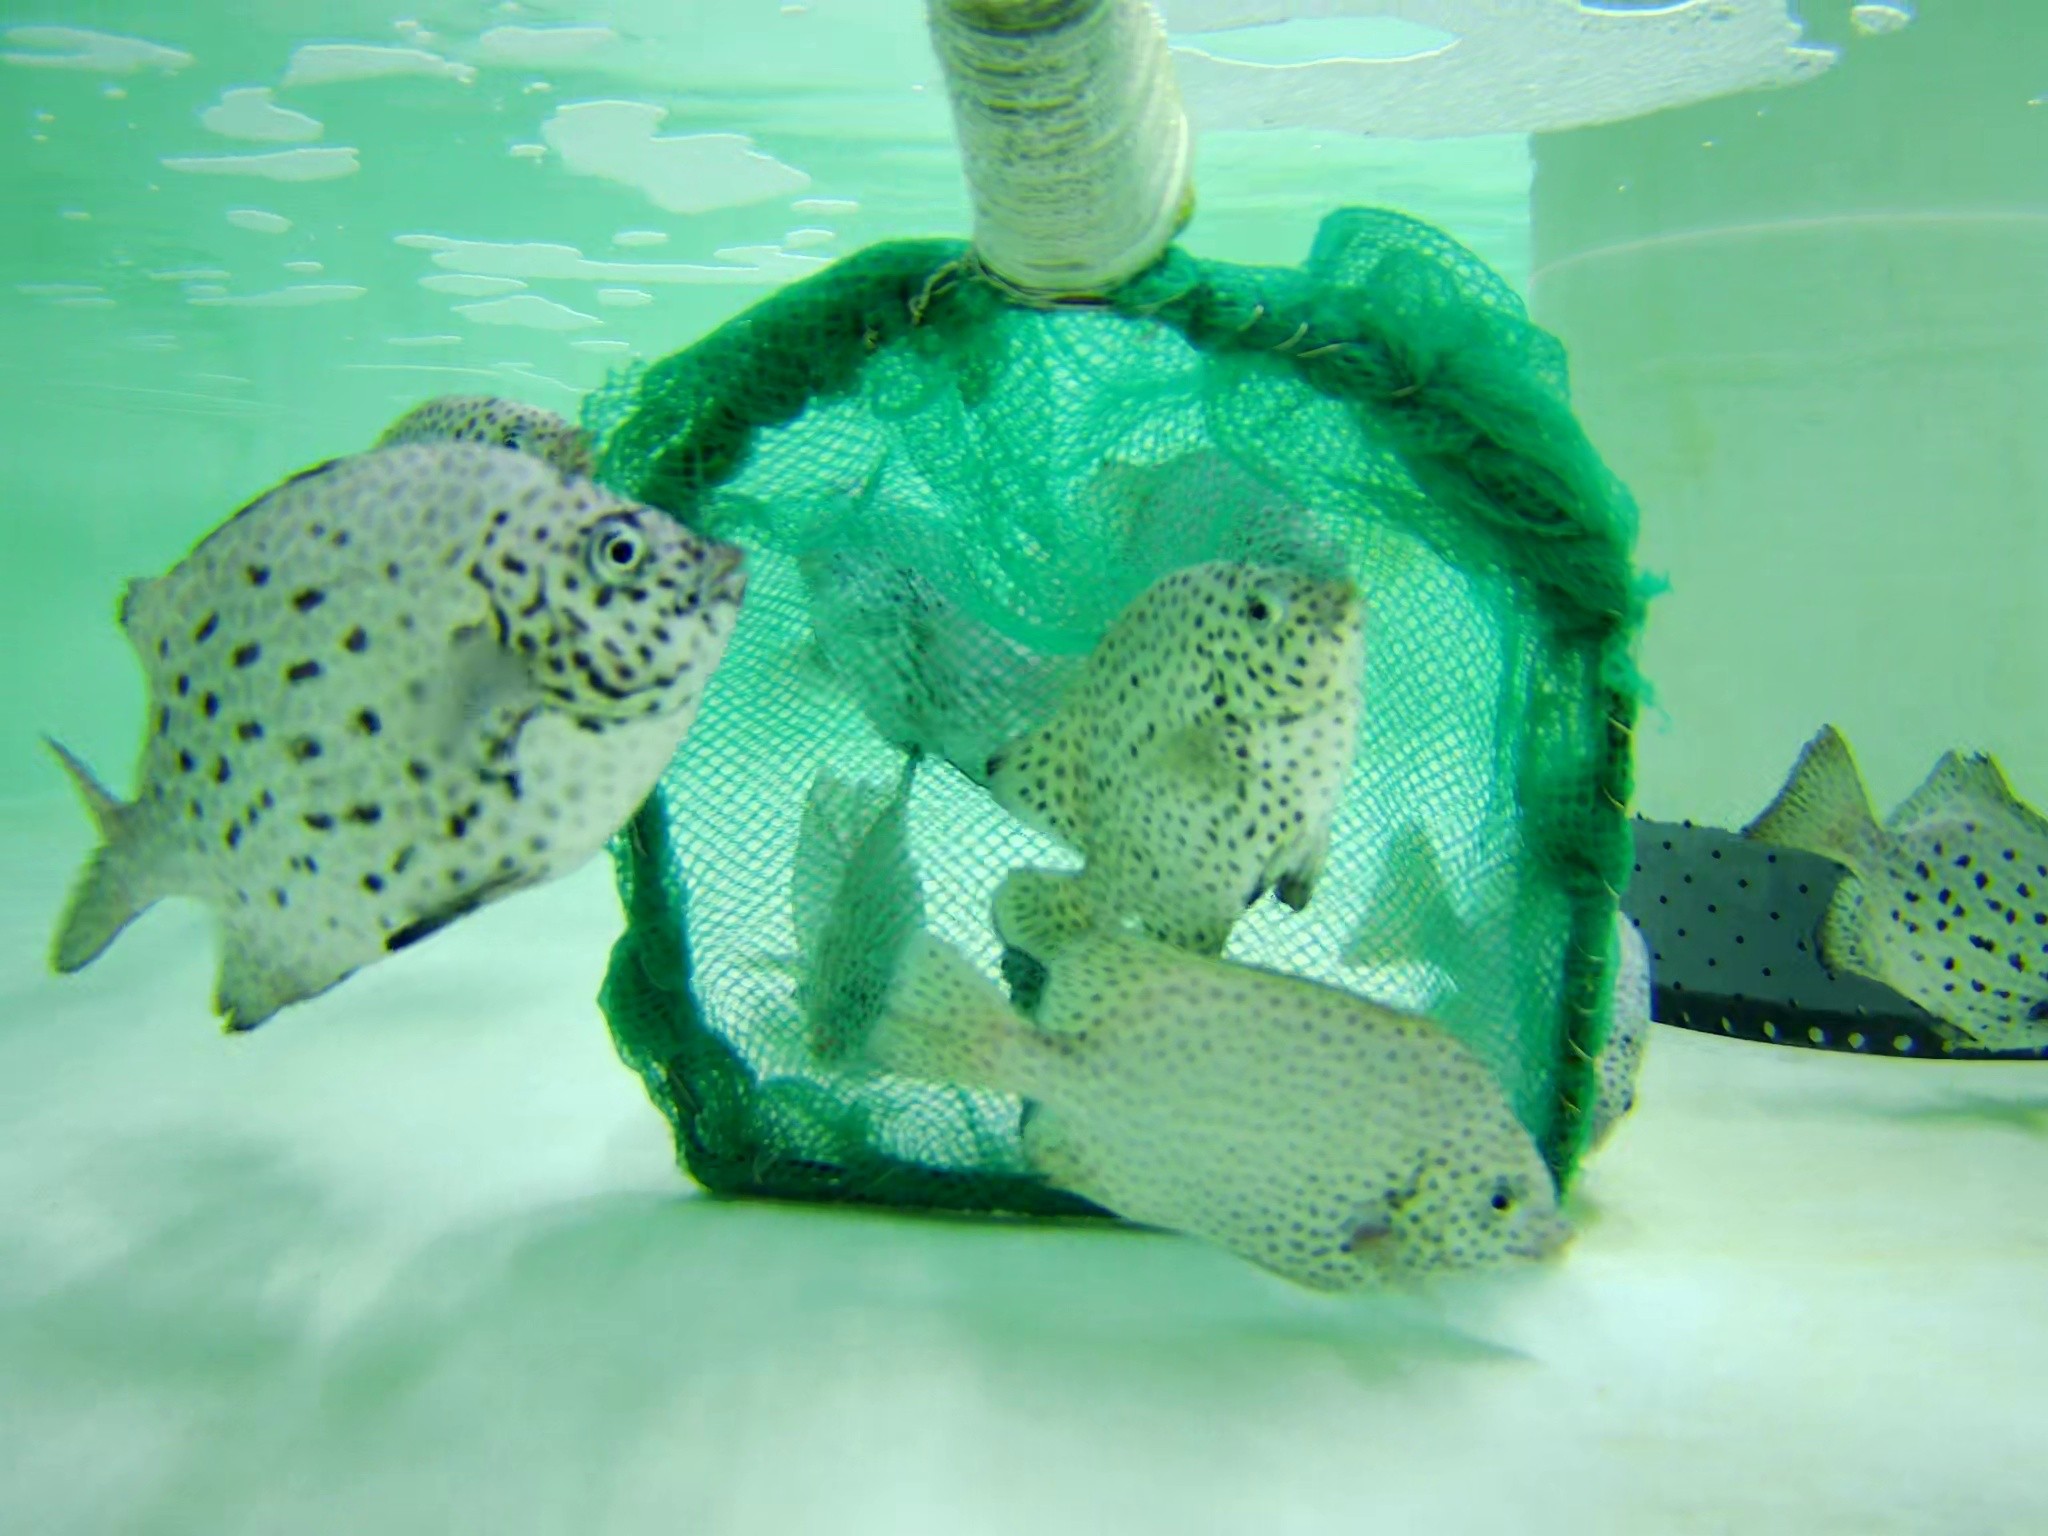fish: (42, 426, 750, 1058), (855, 863, 1585, 1297), (980, 534, 1353, 973), (1729, 716, 2048, 1091), (1374, 823, 1661, 1150), (779, 492, 1024, 821), (1048, 445, 1361, 689), (805, 742, 950, 1075), (356, 397, 571, 536)
